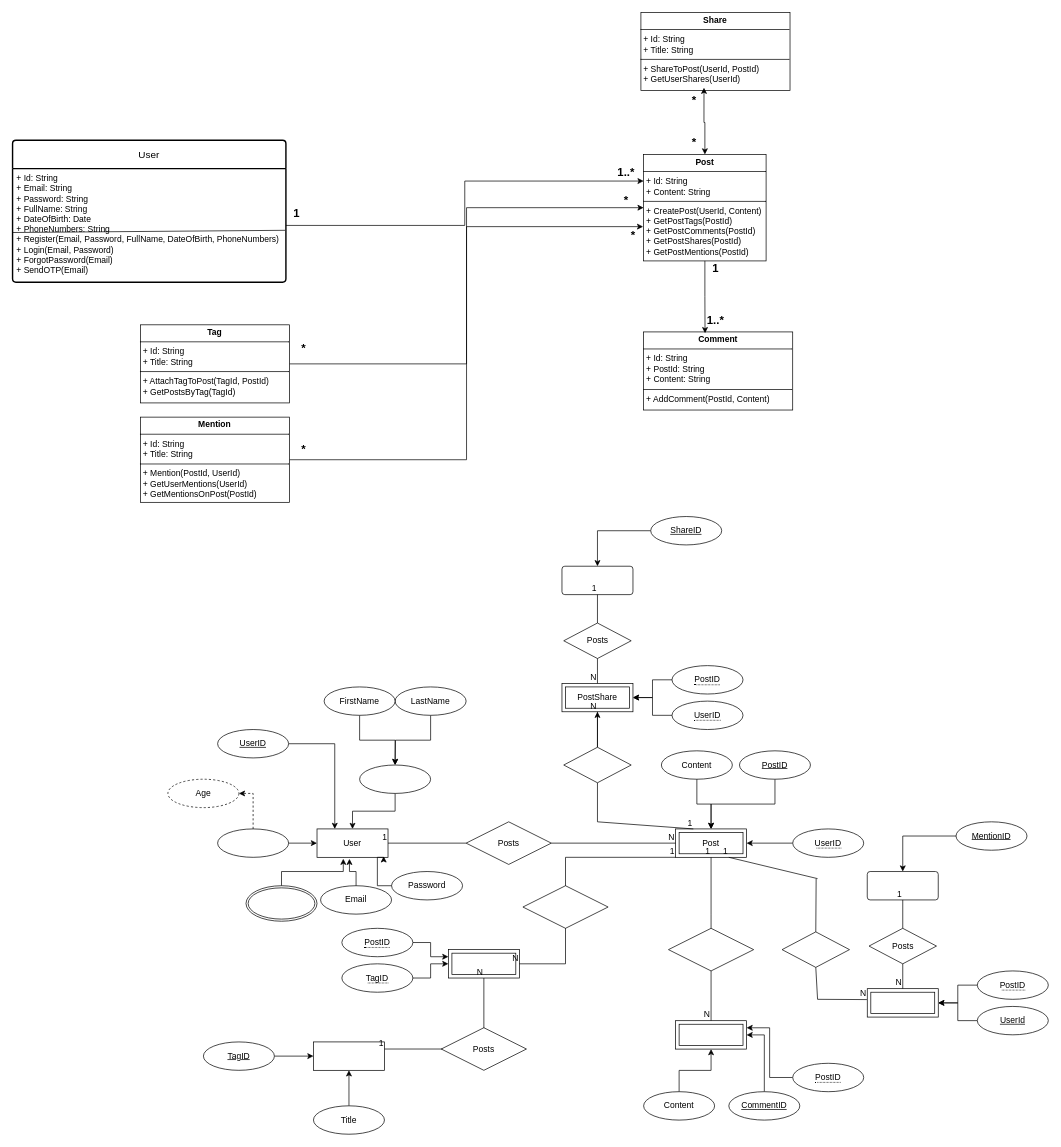
Some shapes in this 1061 by 1147 pixel diagram are drawn without their labels. Each missing label, with the centre of its shape:
Comment: (711,1034)
Comments: (711,949)
DateOfBirth: (253,842)
FullName: (395,778)
Mention: (902,885)
Mentions: (815,949)
PhoneNumbers: (281,903)
PostMention: (902,1002)
PostTag: (483,963)
shares: (597,765)
Tag: (348,1055)
Tags: (565,906)
ٍShare: (597,580)
